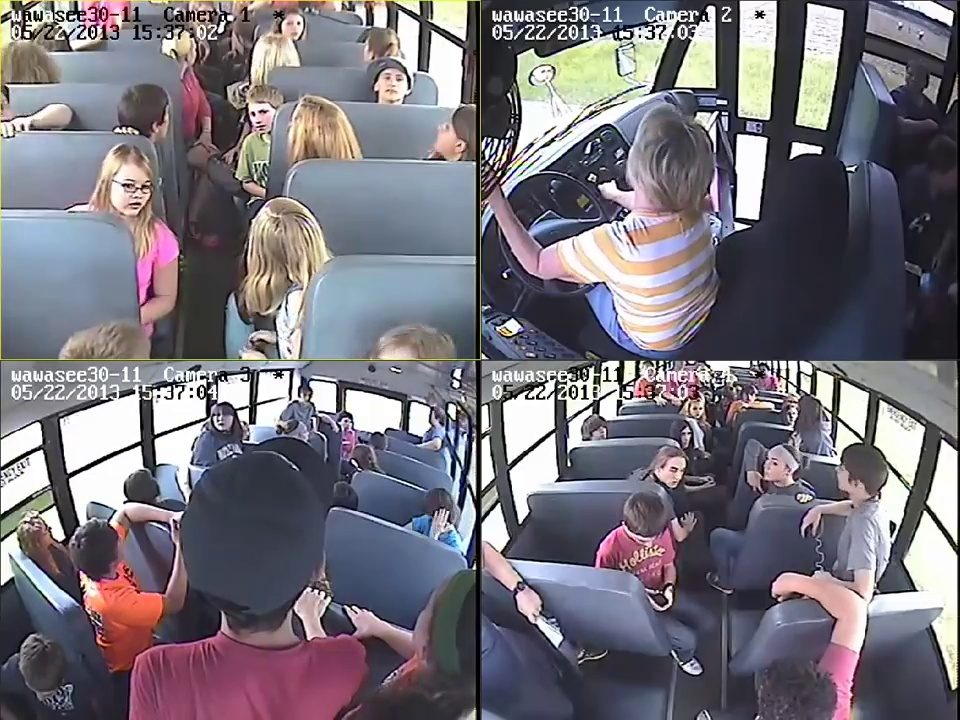face: (108, 161, 149, 216), (381, 63, 407, 102), (248, 99, 274, 135), (278, 16, 304, 43), (763, 451, 785, 482), (663, 454, 683, 487), (211, 407, 230, 430), (739, 387, 758, 409), (673, 427, 692, 447), (688, 398, 706, 417), (587, 424, 608, 440), (784, 408, 798, 424), (340, 416, 352, 432), (299, 389, 311, 404)
